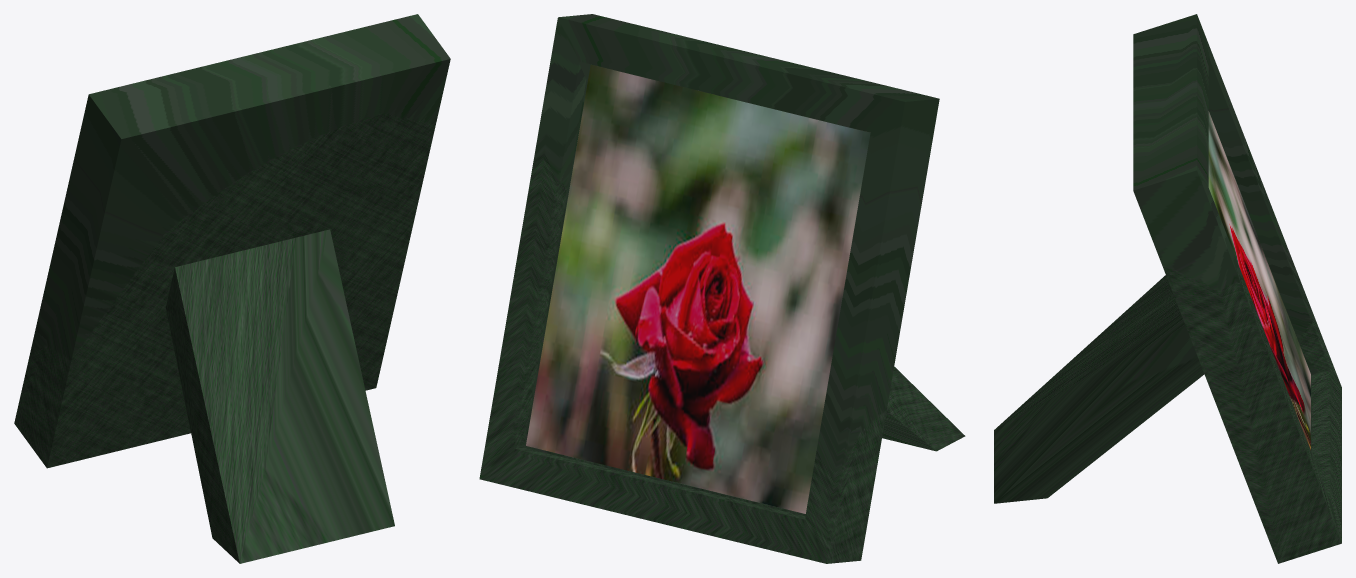
Rendered from marco.fbx.
The picture shows the model from 3 angles, left to right: view 1: azimuth 30°, elevation 25°; view 2: azimuth 150°, elevation 25°; view 3: azimuth 270°, elevation 25°; orthographic projection. The views are drawn at different scales.
Parts seen in each view (by area): view 1: polySurface2; view 2: polySurface3, polySurface2; view 3: polySurface2, polySurface3.
Part boxes in pixels (x1,y1,x2,y2): polySurface2: (14,14,450,563); polySurface3: (526,64,870,513); polySurface2: (479,14,965,563); polySurface2: (994,14,1341,563); polySurface3: (1208,111,1310,450).
Bounding box in the file's own units: 24.72 × 29.03 × 23.24.
